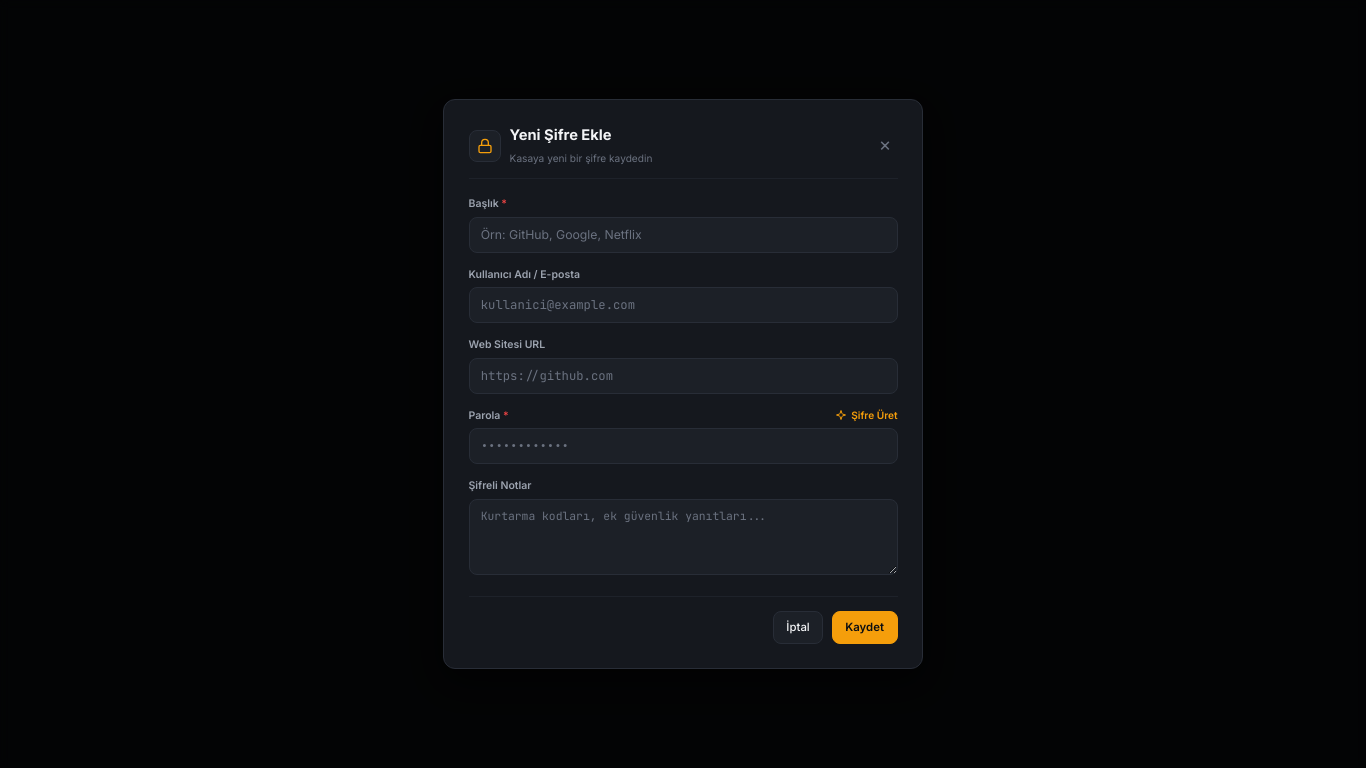
it: PasswordFormModal Component › displays real-time password strength meter as password is typed
Step 1. Type "WeakPass" into the password field labelled "Parola *" → point(683, 446), box [468,428,898,464]
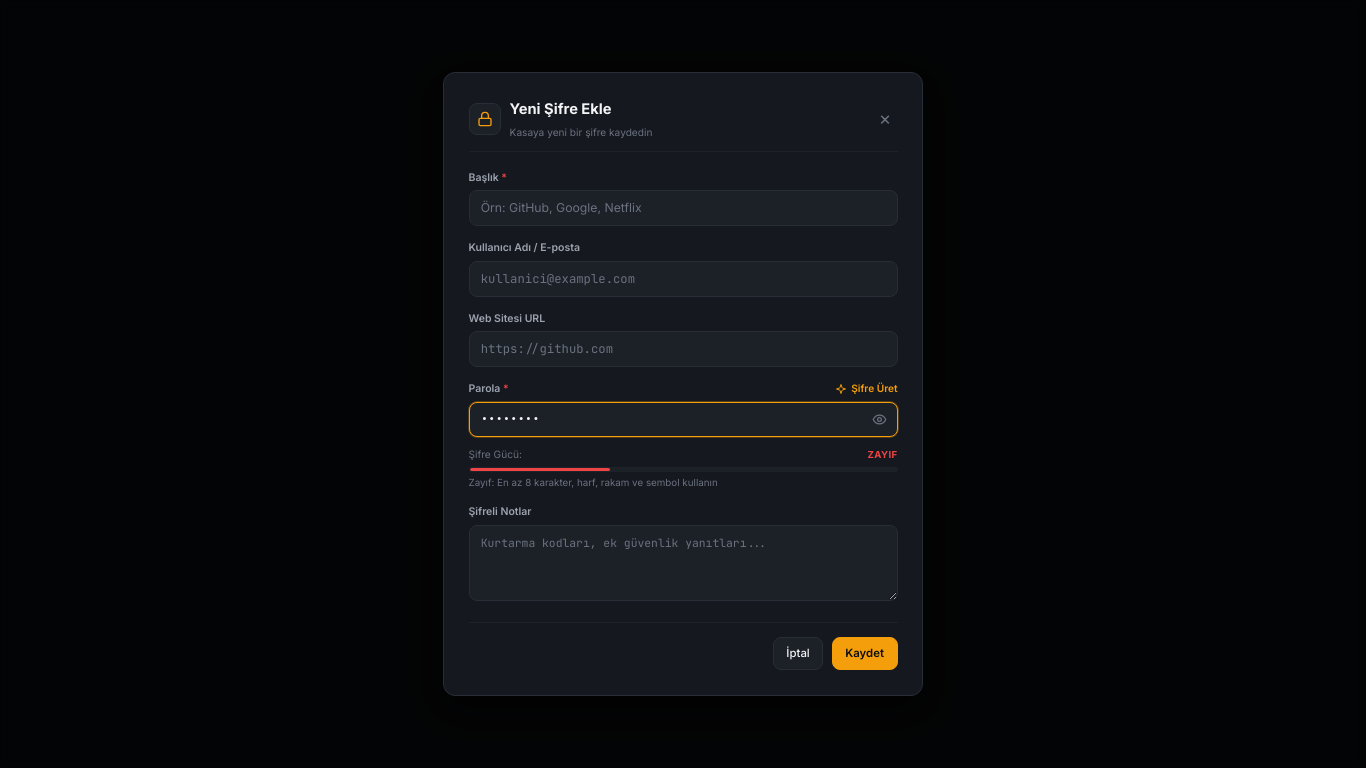
Check: the text "Zayıf" is shown, box [867,448,898,462]
Step 2. Clear the password field labelled "Parola *" → point(683, 420), box [468,402,898,438]
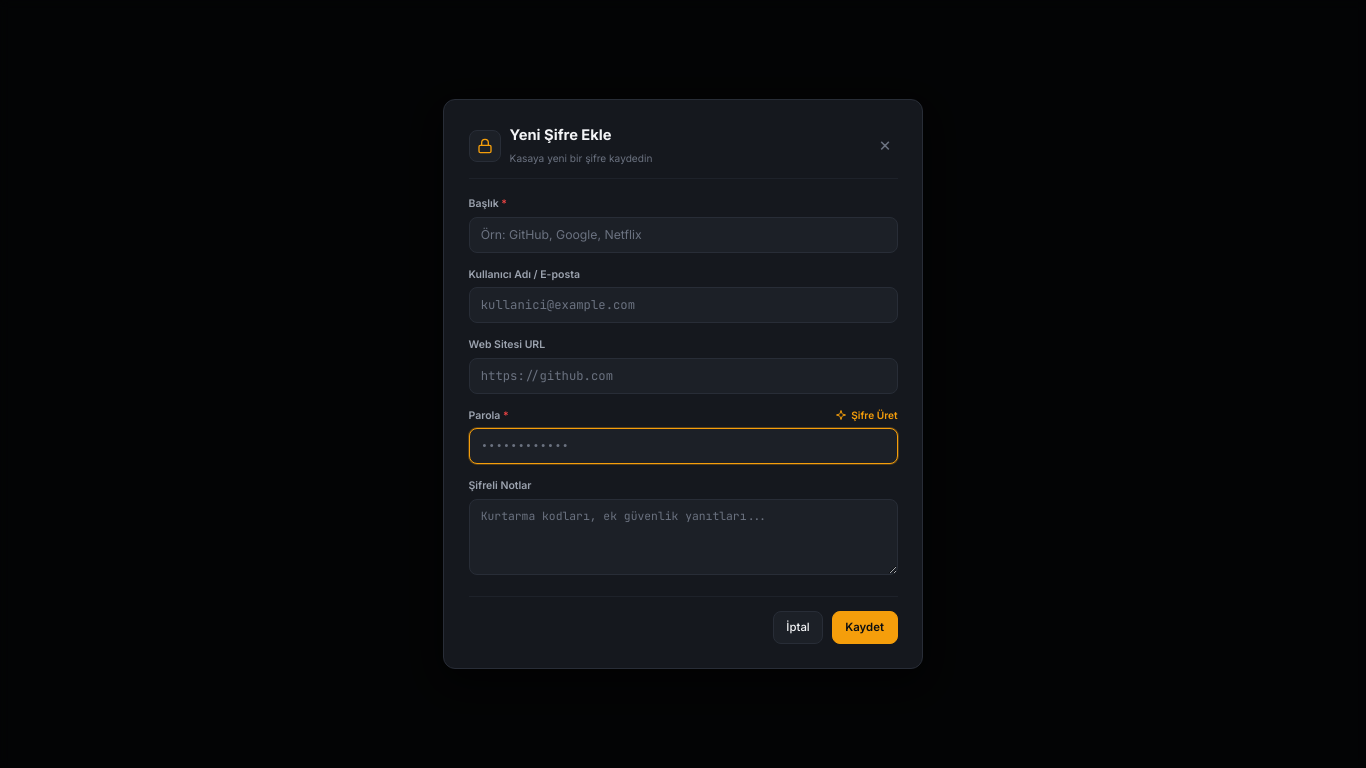
Step 3. Type "k!9P#vL8$zQ2@mX4" into the password field labelled "Parola *" → point(683, 446), box [468,428,898,464]
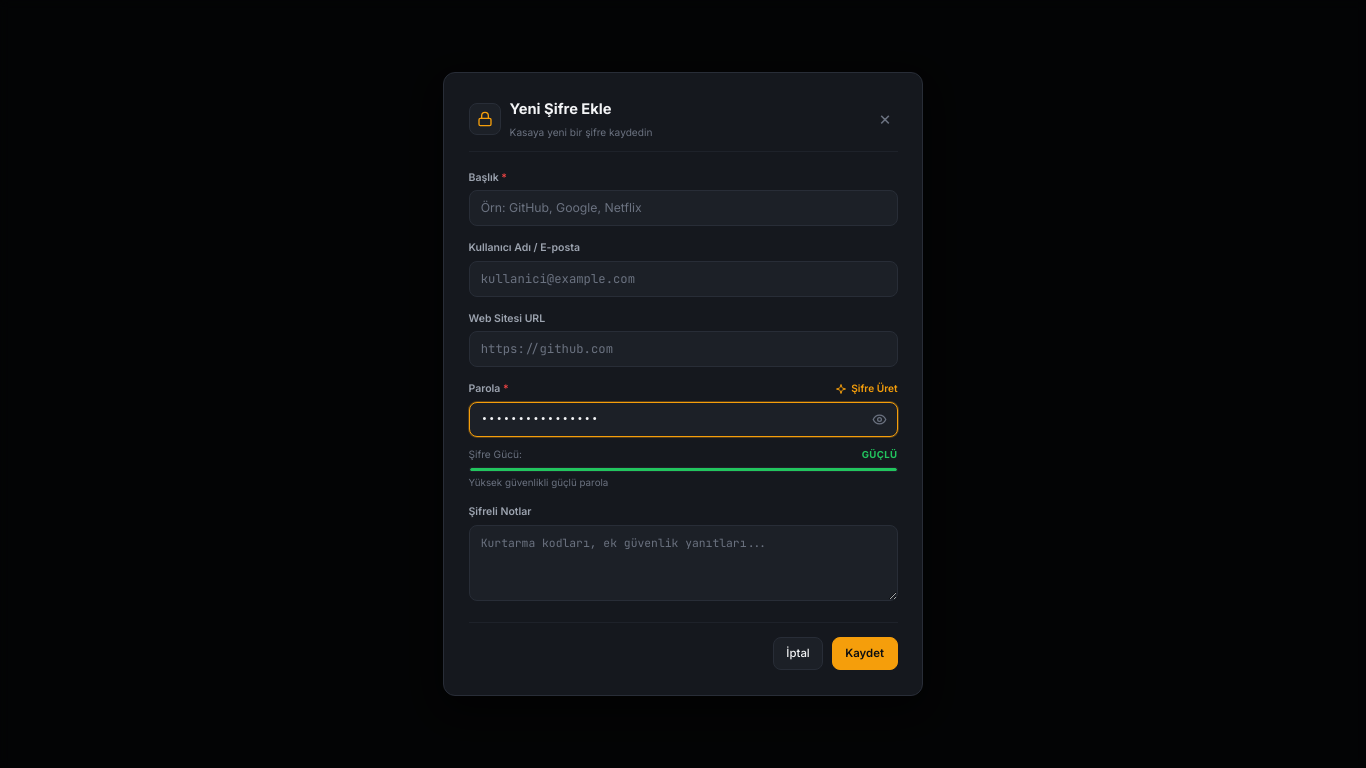
Check: the text "Güçlü" is shown, box [862,448,898,462]
